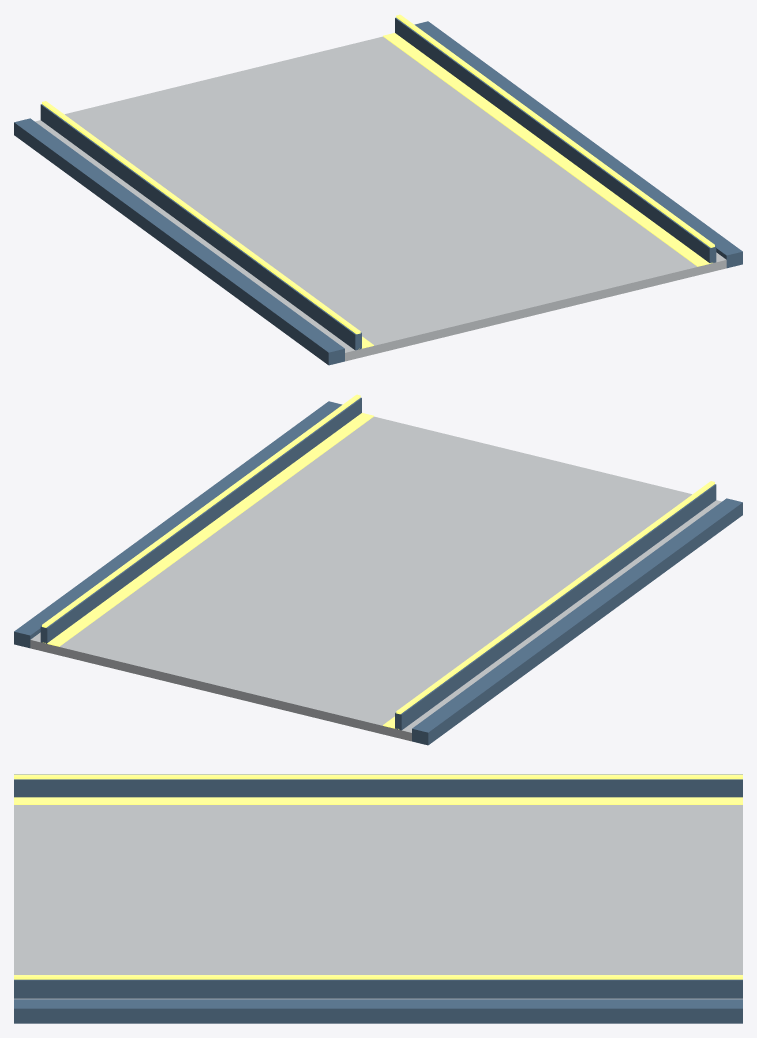
The model's file is road_industrial_x_straight_lod1.glb.
The picture shows the model from 3 angles, top to bottom: view 1: azimuth 30°, elevation 25°; view 2: azimuth 150°, elevation 25°; view 3: azimuth 270°, elevation 25°; orthographic projection. The views are drawn at different scales.
Parts seen in each view (by area): view 1: body; view 2: body; view 3: body.
Boxes of the visible parts, left/top/right/bottom form: body: left=14, top=14, right=742, bottom=365; body: left=14, top=394, right=742, bottom=745; body: left=14, top=774, right=742, bottom=1023.
Size of the model in its own units: 6.08 by 0.37 by 8.
